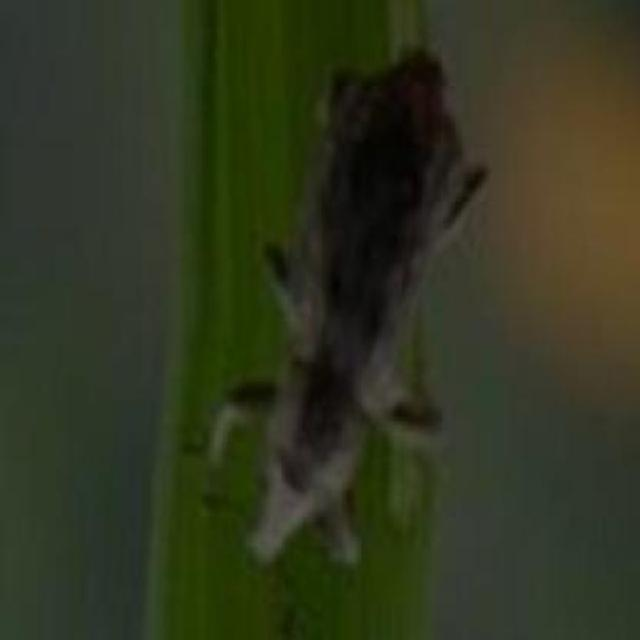rice-bug: (220, 46, 478, 574)
